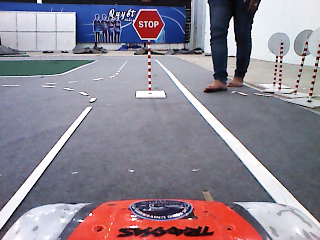stop: (131, 8, 166, 40)
